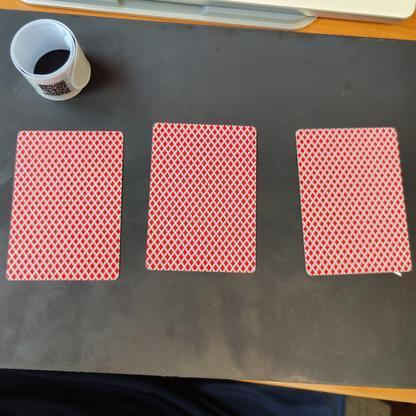card: (3, 123, 128, 283), (293, 122, 415, 280), (141, 120, 263, 278)
